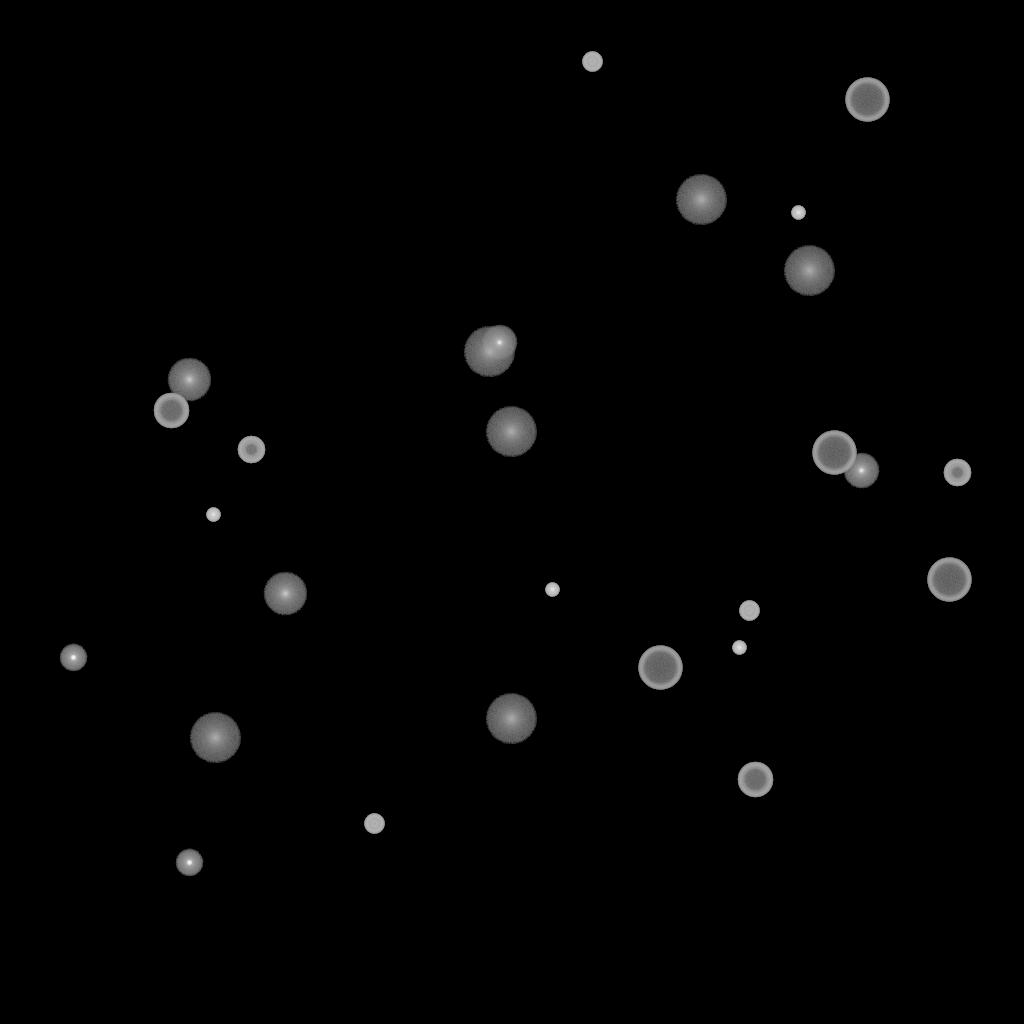depth:-10: (59, 644, 87, 672), (175, 849, 203, 877)
depth:-30: (732, 641, 746, 655), (791, 206, 805, 220), (206, 508, 220, 522), (545, 583, 559, 597)
depth:-40: (582, 52, 602, 72), (739, 601, 759, 621), (364, 814, 384, 834)
depth:-50: (943, 459, 971, 487), (237, 436, 265, 464)
depth:-60: (153, 393, 189, 429), (737, 762, 773, 798)
depth:-70: (845, 78, 889, 122), (812, 431, 856, 475), (927, 558, 971, 602), (638, 646, 682, 690)
depth:0: (481, 325, 517, 361), (843, 453, 879, 489)
depth:10: (263, 572, 307, 616), (167, 358, 211, 402)
depth:20: (485, 694, 537, 744), (783, 246, 835, 296), (485, 407, 537, 457), (675, 175, 727, 225), (189, 713, 241, 763), (463, 327, 515, 377)
